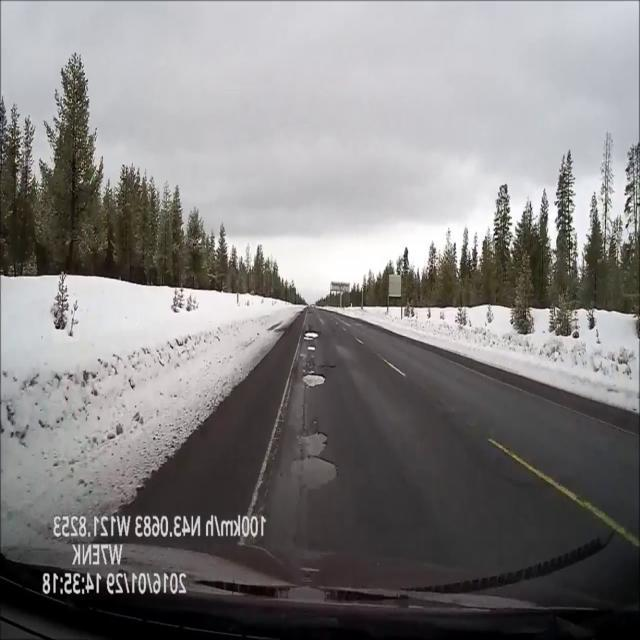pothole: (289, 455, 339, 490), (291, 429, 330, 456), (301, 374, 326, 390), (303, 331, 319, 340), (308, 346, 316, 351), (308, 311, 313, 314)
